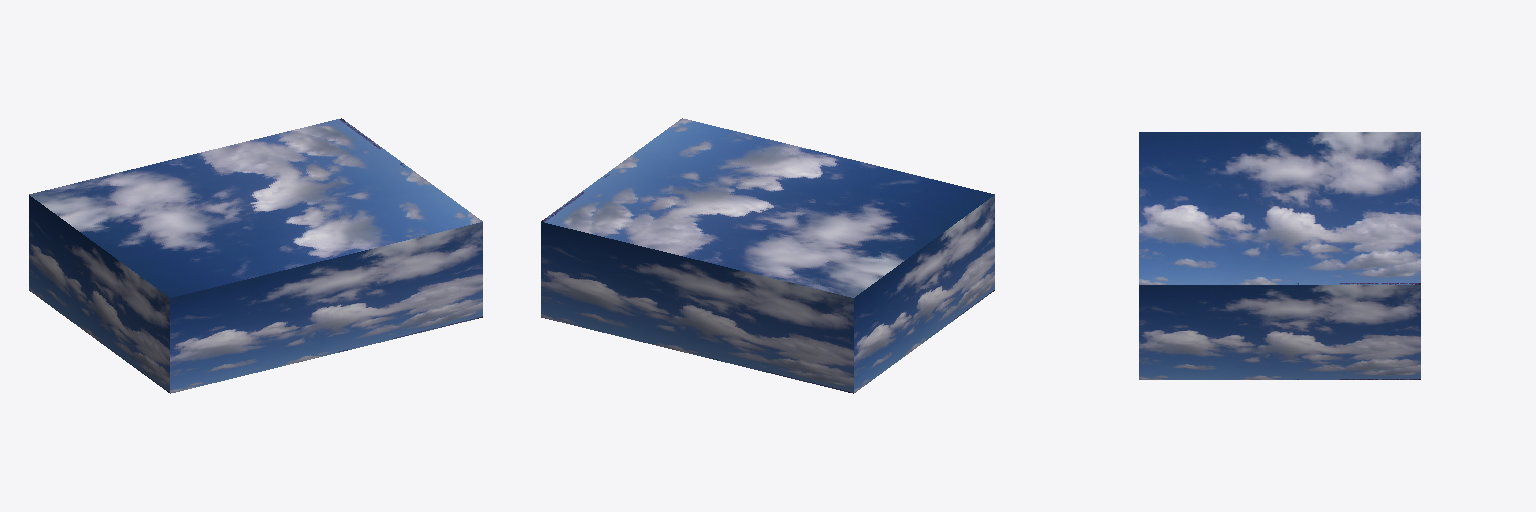
3 renders of one model, left to right at view 1: azimuth 30°, elevation 25°; view 2: azimuth 150°, elevation 25°; view 3: azimuth 270°, elevation 25°, orthographic.
Bounding box in the file's own units: 212 × 61.87 × 166.
Materials: 10 (8 with a texture image).